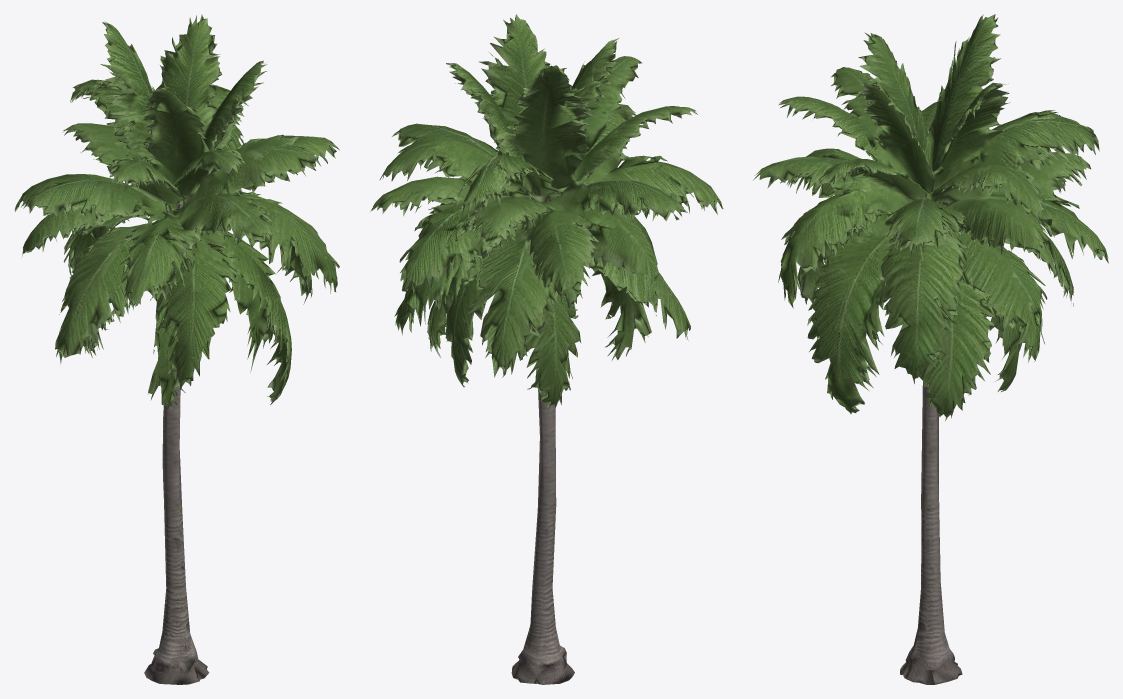
The model's file is tropical_palm_tree_optimized.glb.
3 views of the same model, side by side, from view 1: azimuth 30°, elevation 25°; view 2: azimuth 150°, elevation 25°; view 3: azimuth 270°, elevation 25° (orthographic).
Size of the model in its own units: 0.9356 by 1.89 by 0.9608.
Materials: 1 (1 with a texture image).
